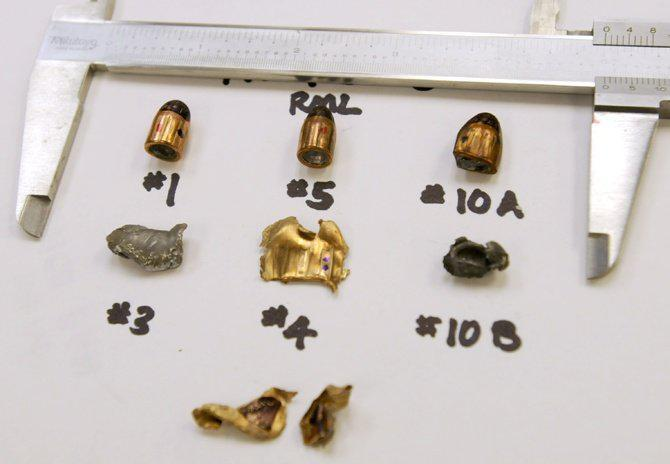Bullet: (443, 109, 525, 173), (285, 103, 354, 170), (141, 98, 197, 161)
